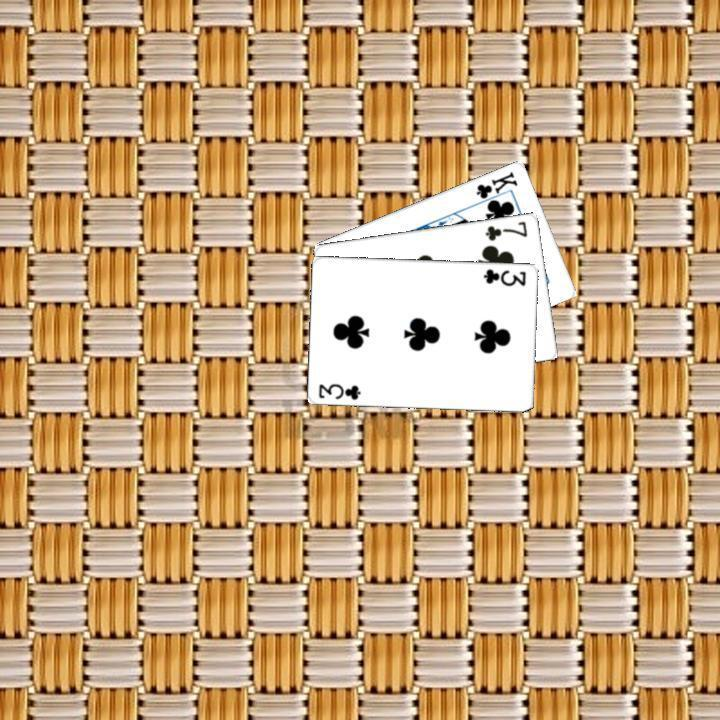3: (480, 264, 528, 288), (315, 379, 363, 402)
7: (481, 216, 530, 242)
K: (472, 167, 520, 207)
